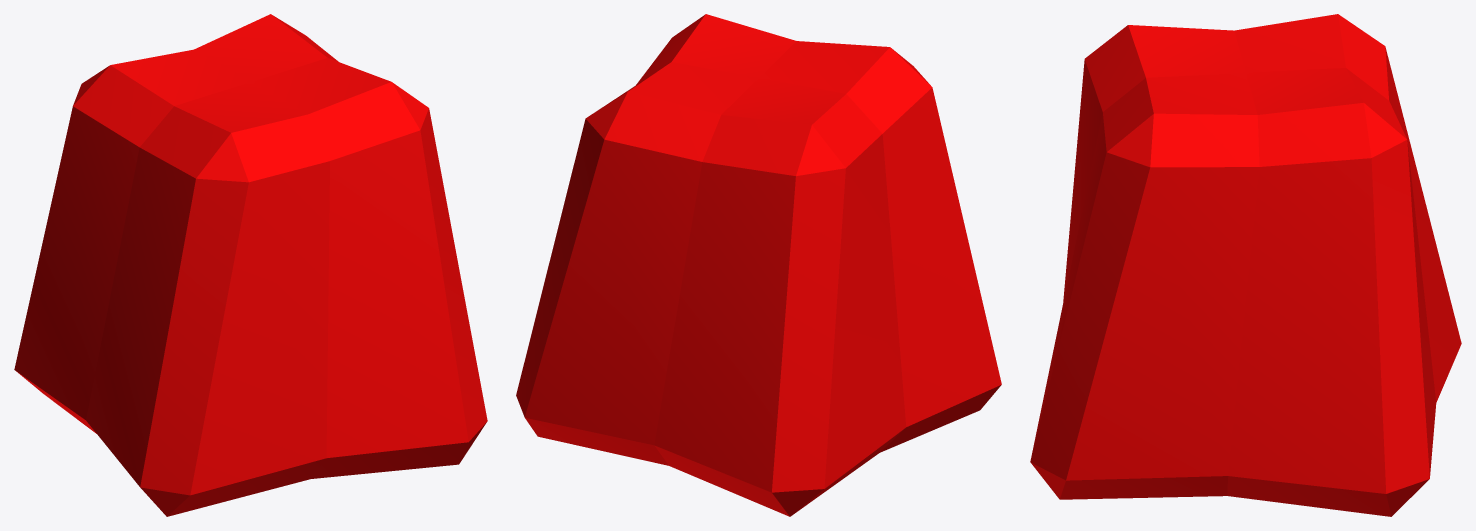
The model's file is jelly.obj.
3 renders of one model, left to right at view 1: azimuth 30°, elevation 25°; view 2: azimuth 150°, elevation 25°; view 3: azimuth 270°, elevation 25°, orthographic. The views are drawn at different scales.
Visible parts, largest first — view 1: Cube_Mesh; view 2: Cube_Mesh; view 3: Cube_Mesh.
Part boxes in pixels (<box>): Cube_Mesh: <box>14,14,487,516</box>; Cube_Mesh: <box>516,14,1001,516</box>; Cube_Mesh: <box>1030,14,1461,516</box>.
Size of the model in its own units: 0.1035 by 0.0991 by 0.1035.
